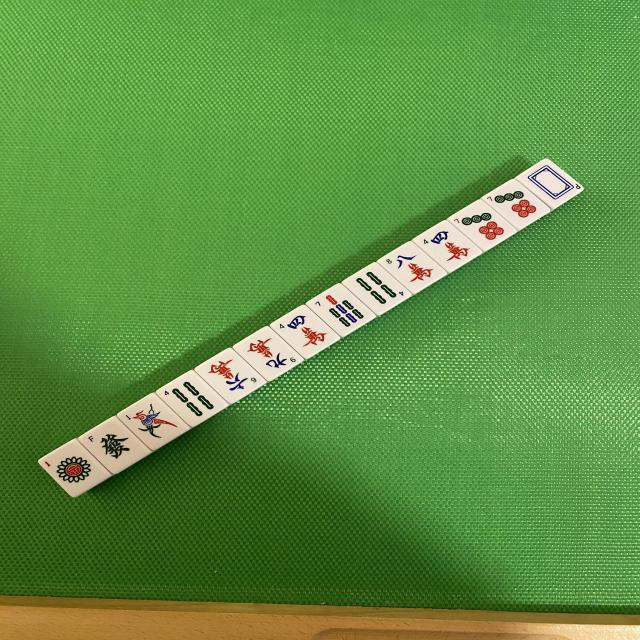hdg: (79, 416, 150, 478)
hdw: (520, 158, 584, 211)
sb1: (120, 392, 188, 454)
sb4: (159, 369, 221, 432), (346, 260, 410, 318)
sb7: (310, 283, 372, 341)
sc4: (414, 220, 482, 276), (275, 312, 333, 350)
sc6: (202, 357, 263, 397)
sc8: (385, 250, 440, 284)
sc9: (236, 322, 304, 386)
sd1: (40, 436, 106, 498)
sd7: (448, 197, 514, 253), (484, 178, 548, 232)
